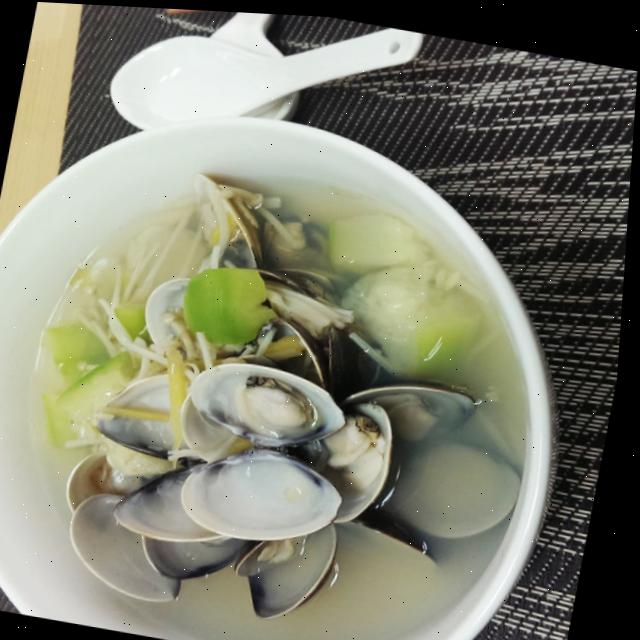Wet: (0, 180, 512, 627)
